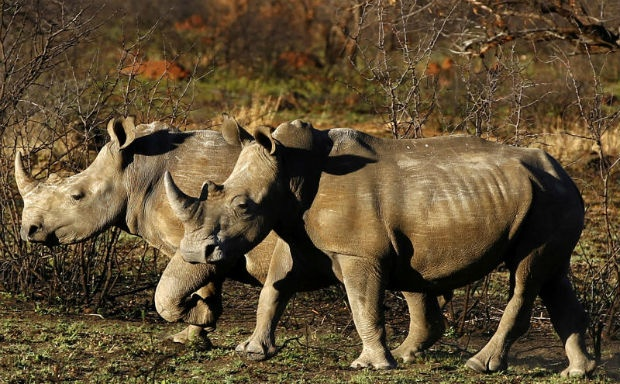rhino: (161, 108, 596, 377), (12, 114, 305, 349)
